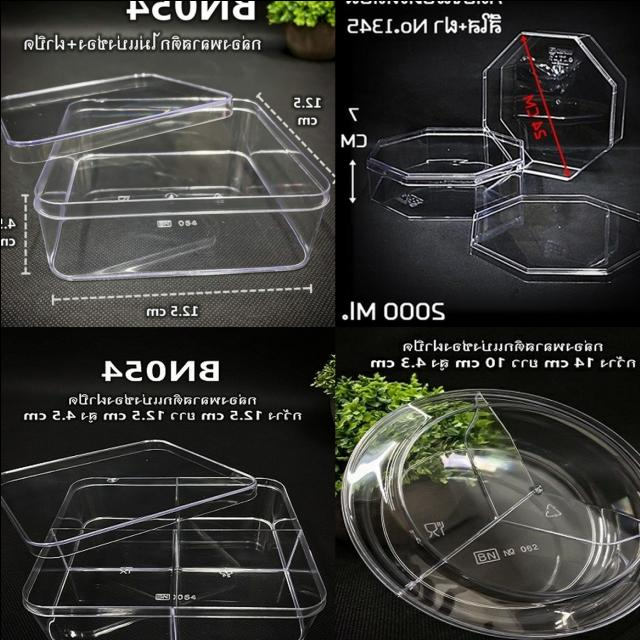plastik: (341, 388, 640, 638), (0, 72, 329, 279), (0, 439, 325, 640), (482, 31, 625, 180), (469, 194, 640, 279), (366, 127, 524, 218)
